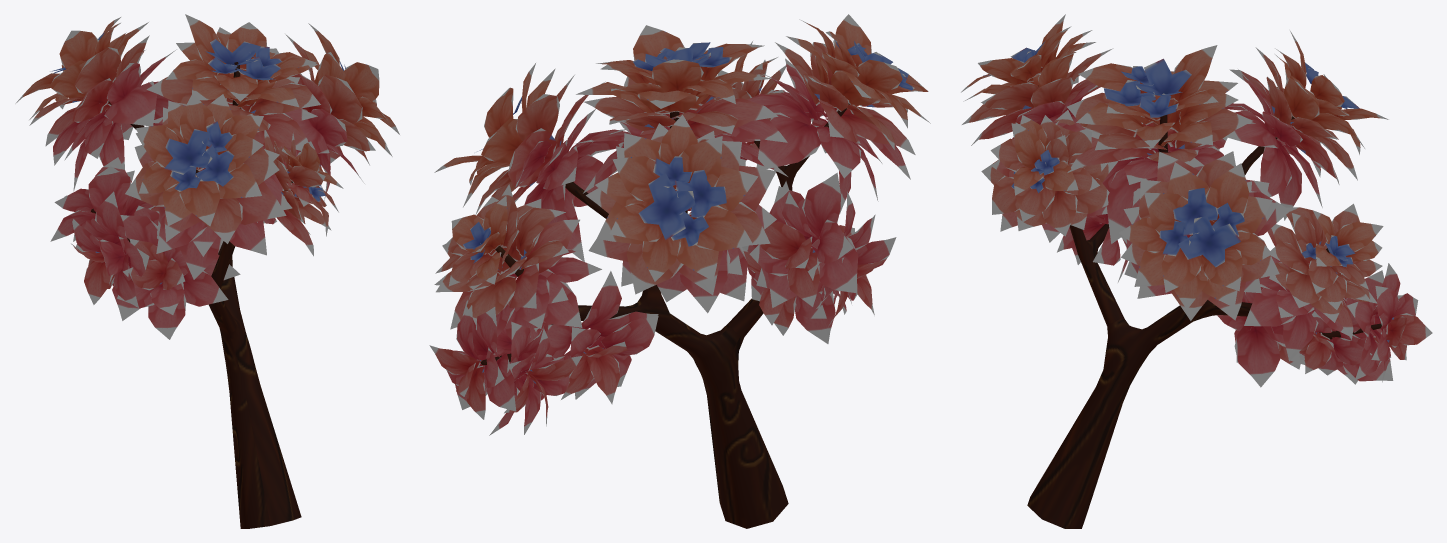
The model's file is Forest_Trees_Pink_2.glb.
3 renders of one model, left to right at view 1: azimuth 30°, elevation 25°; view 2: azimuth 150°, elevation 25°; view 3: azimuth 270°, elevation 25°, orthographic. The views are drawn at different scales.
Parts seen in each view (by area): view 1: Object_22.002; view 2: Object_22.002; view 3: Object_22.002.
Boxes of the visible parts, x1,y1,x2,y2 form: Object_22.002: (15,14,399,528); Object_22.002: (429,14,930,528); Object_22.002: (961,14,1432,528).
Size of the model in its own units: 147 by 183 by 166.
